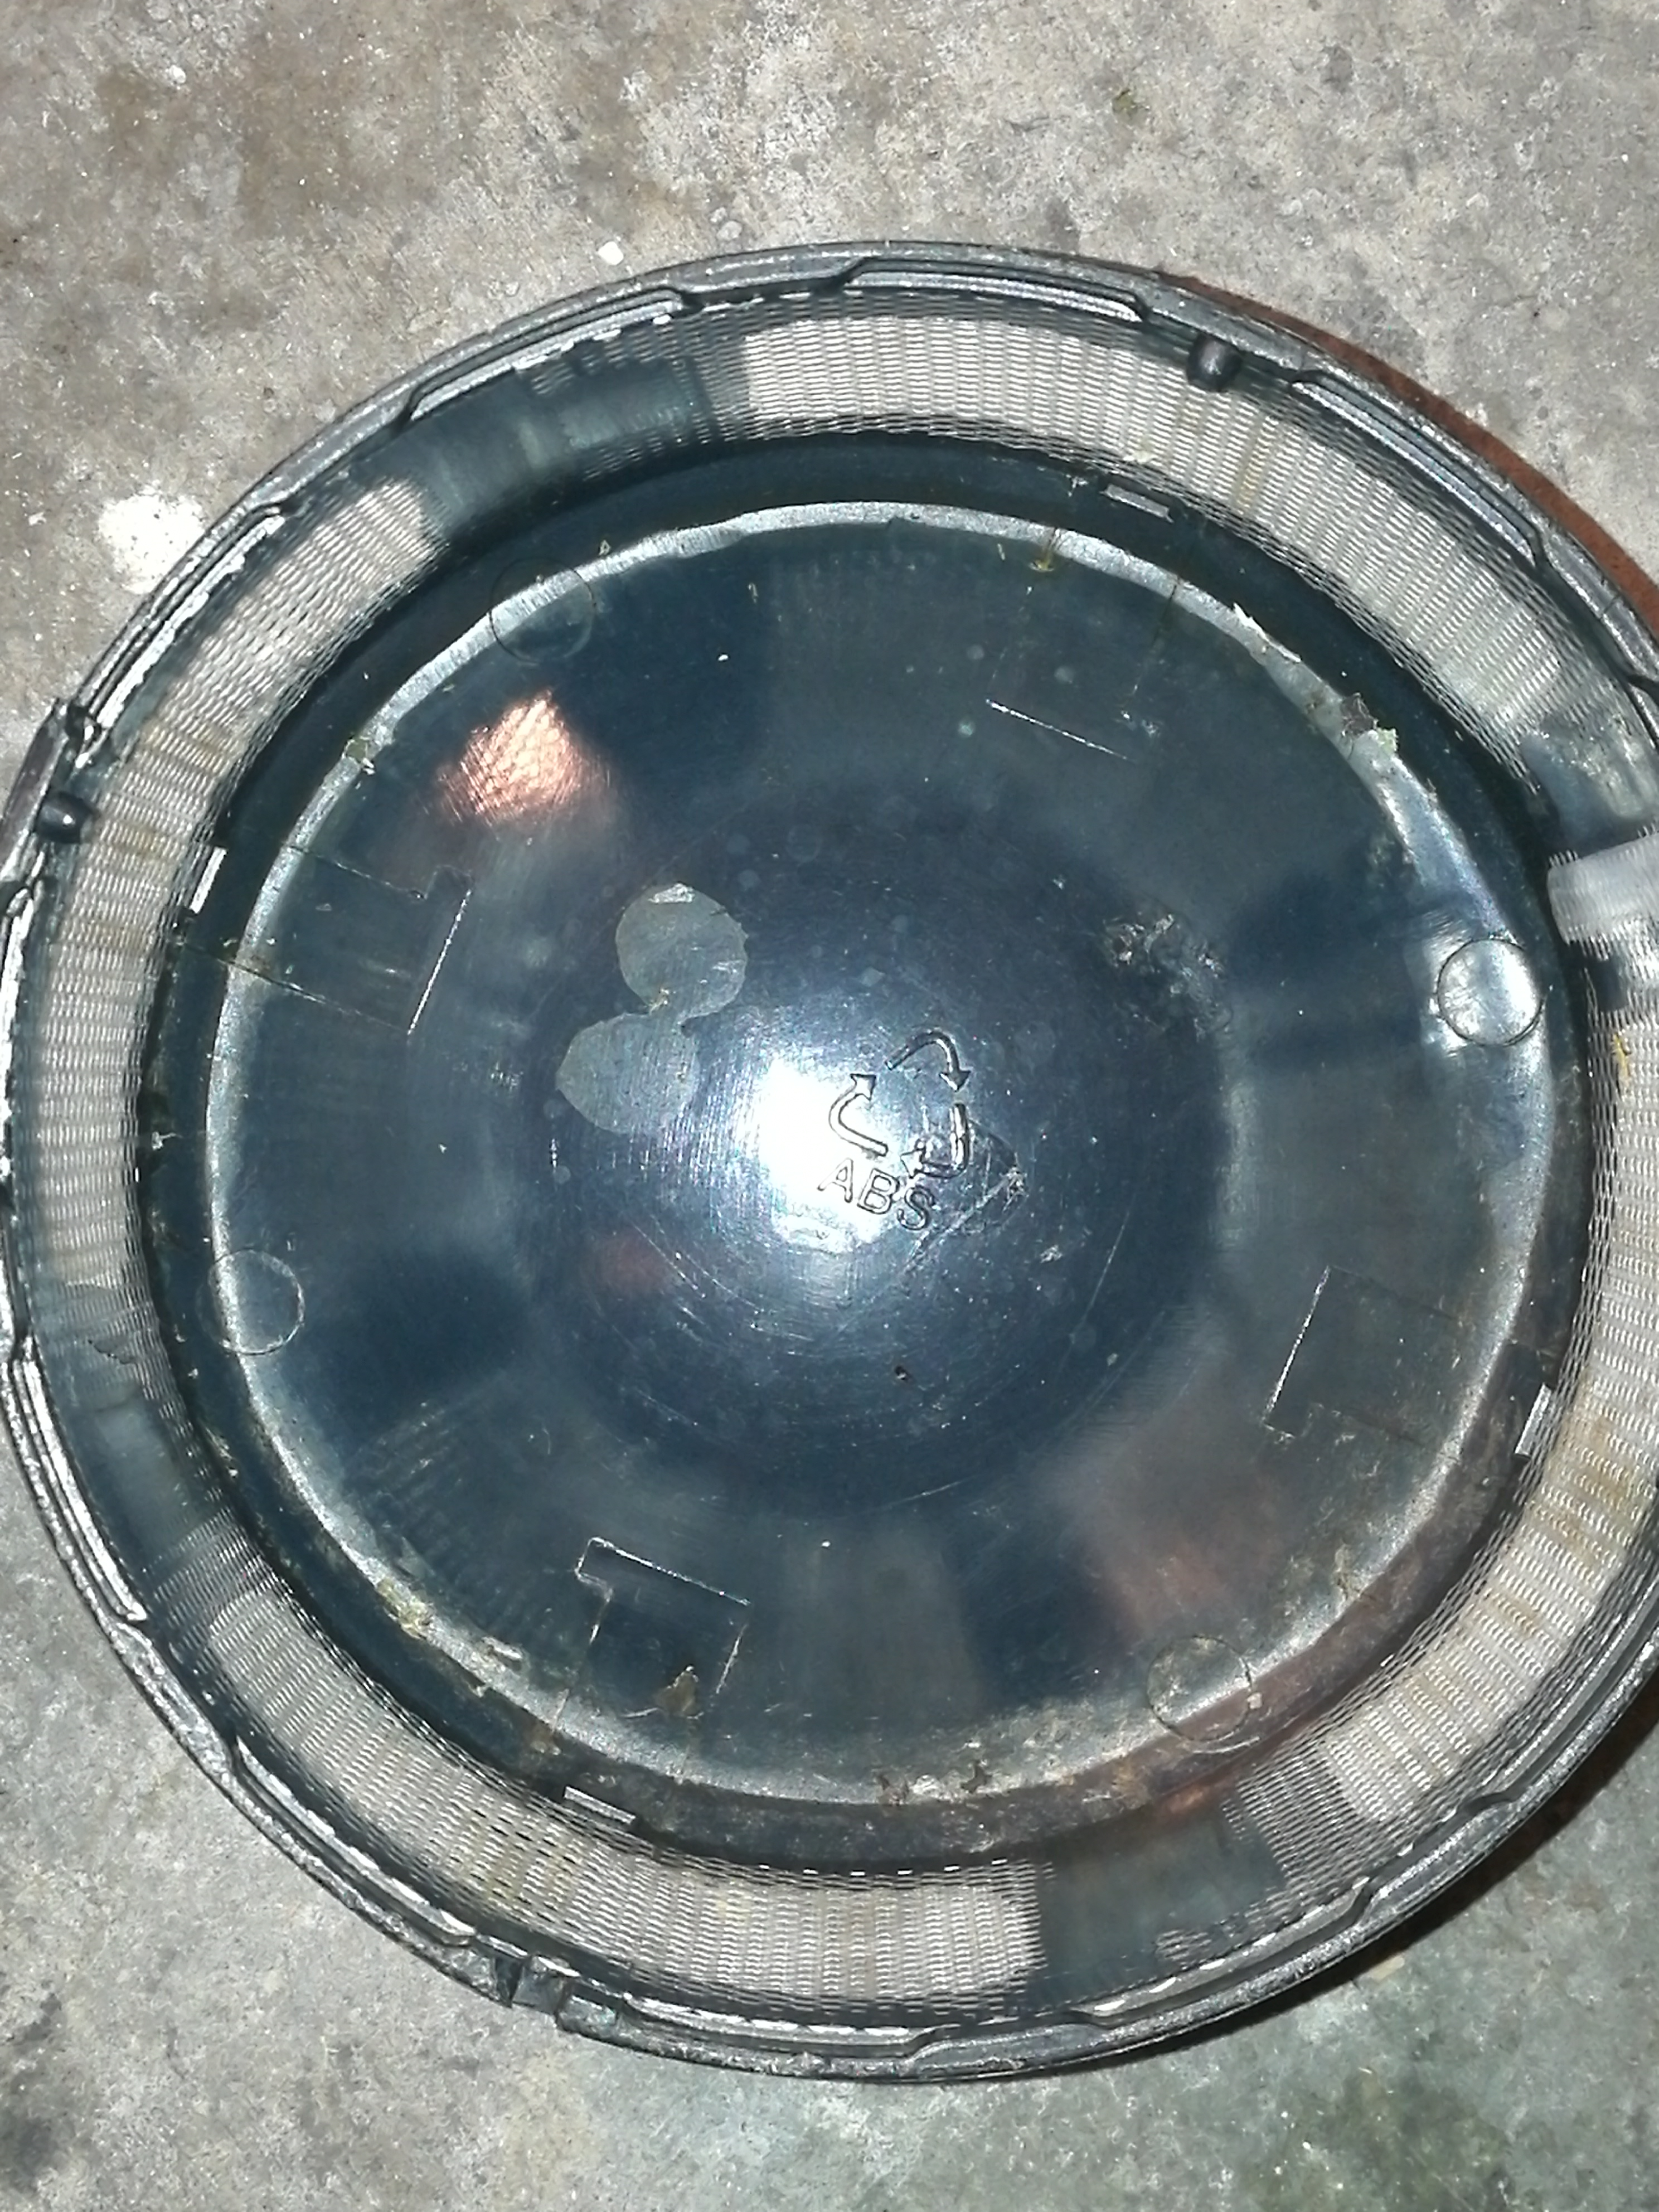moth: (653, 1667, 701, 1719), (1340, 693, 1375, 737)
